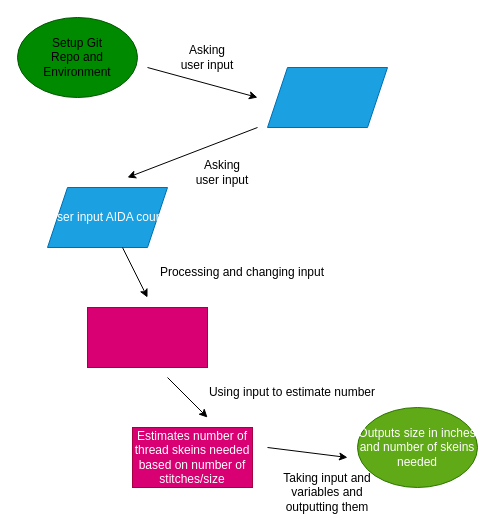
Some shapes in this 495 by 531 pixel diagram are drawn without their labels. Here are the shapes that lost their labels. From the top down, the centre of each, then its label:
At point 327,97: "User input size of project in count".
At point 147,337: "Translates size in counts to size in inches".
